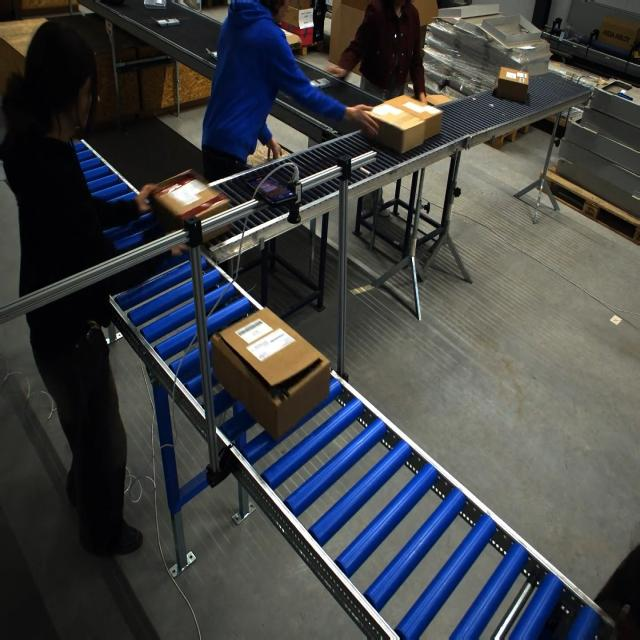box: (209, 309, 327, 440), (147, 168, 231, 240), (365, 94, 441, 154)
product: (310, 77, 332, 89), (154, 18, 180, 27), (144, 0, 167, 9), (205, 48, 217, 61)
